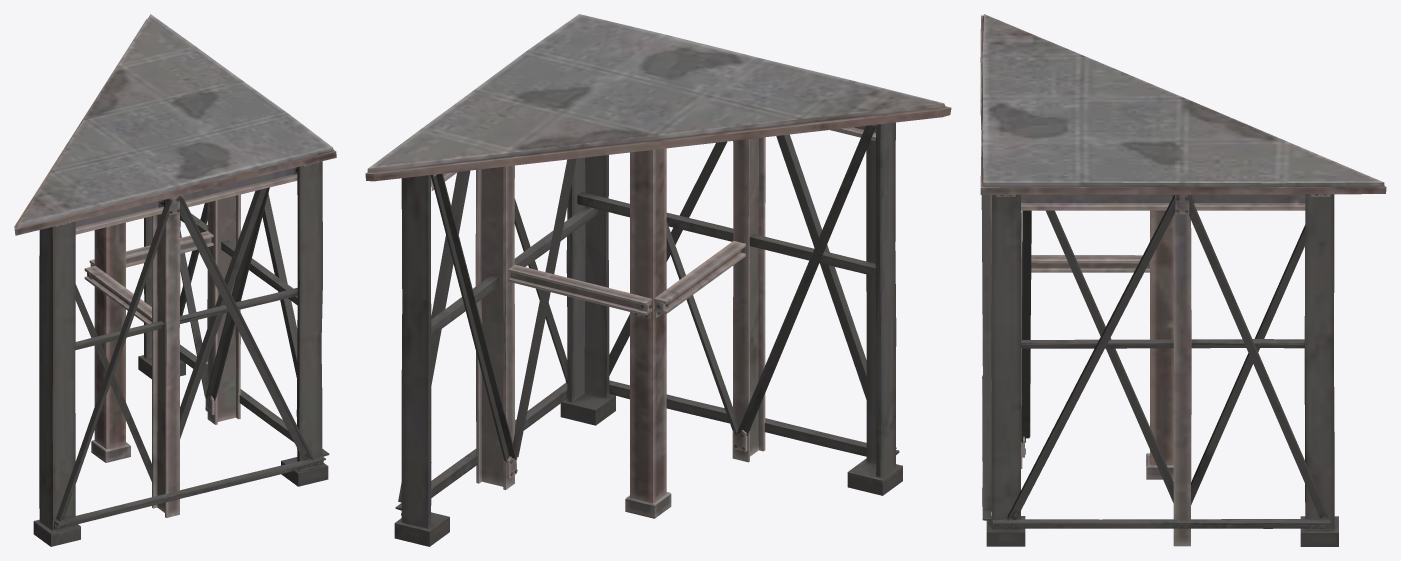
File: SM_FloorTryangle_Iron_19b9ad.glb
3 renders of one model, left to right at view 1: azimuth 30°, elevation 25°; view 2: azimuth 150°, elevation 25°; view 3: azimuth 270°, elevation 25°, orthographic. The views are drawn at different scales.
Bounding box in the file's own units: 4.06 × 4.02 × 4.03.
1 material, 1 textured.
